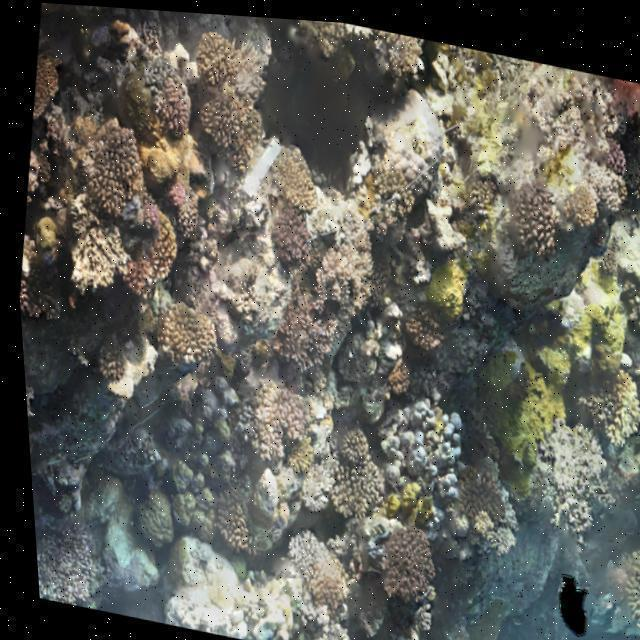Bleached Coral: (165, 531, 348, 640), (350, 90, 445, 224)
Healthy Coral: (36, 15, 361, 333), (236, 379, 342, 551), (379, 399, 463, 530)
